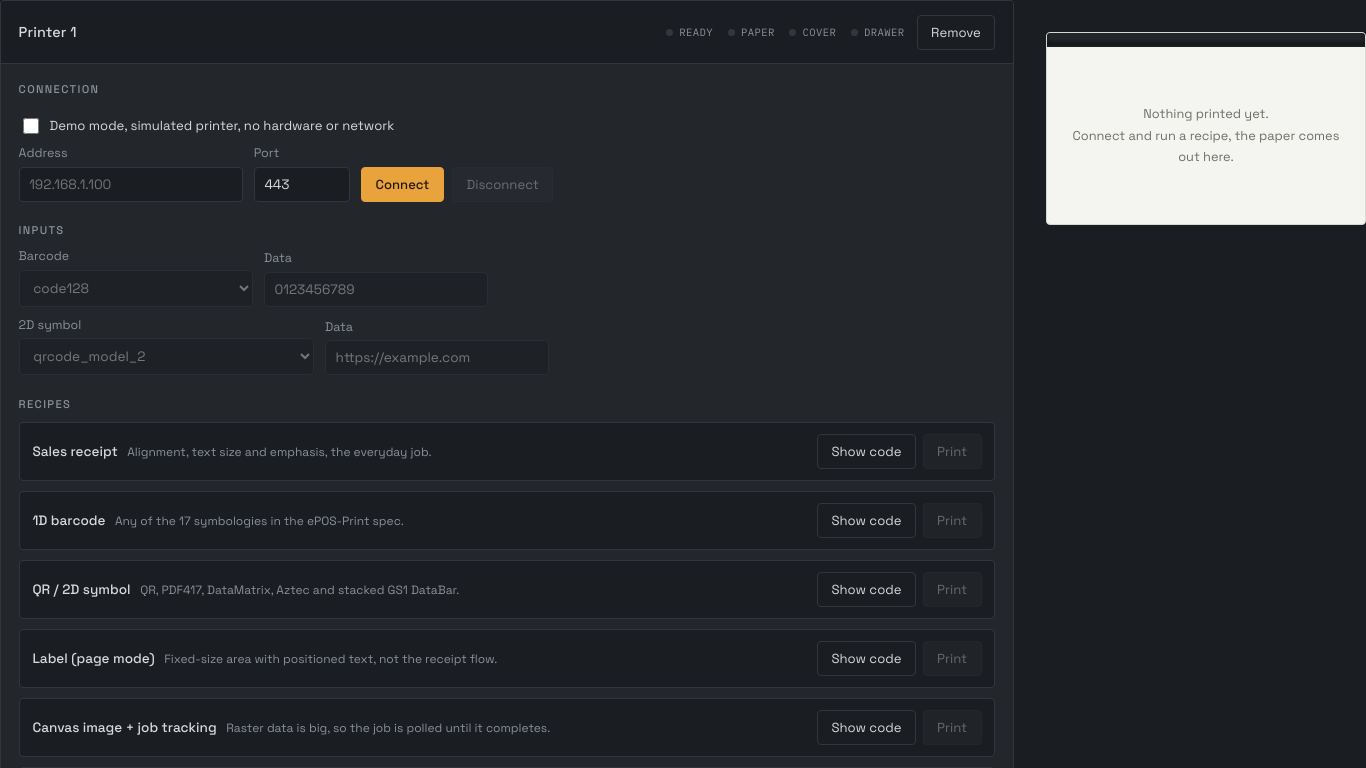
Test case: demo flow › reveals the source snippet for a recipe
Click the button "Show code" in the row of "QR / 2D symbol" at (867, 590), box [817, 572, 916, 607]
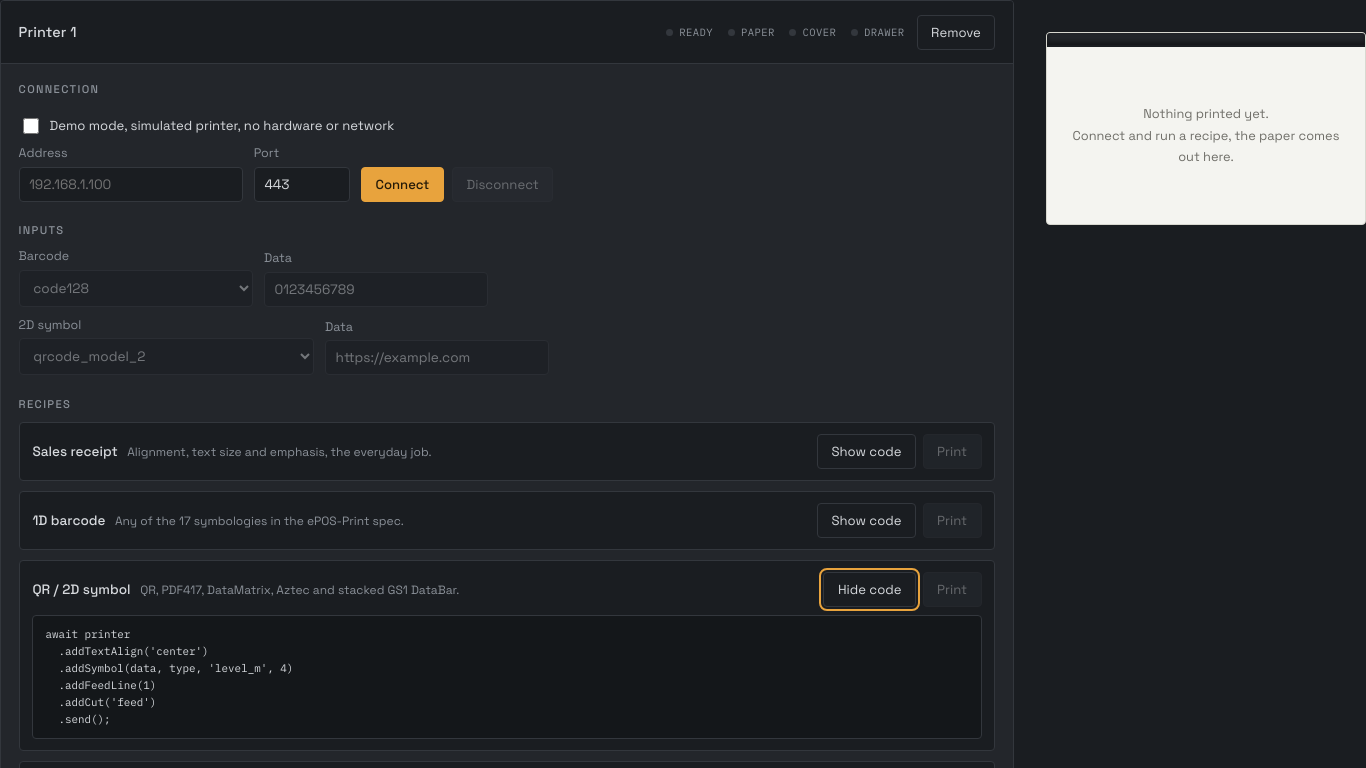
Now the text "addSymbol(data, type, 'level_m', 4)" is shown, box [45, 627, 293, 726]
